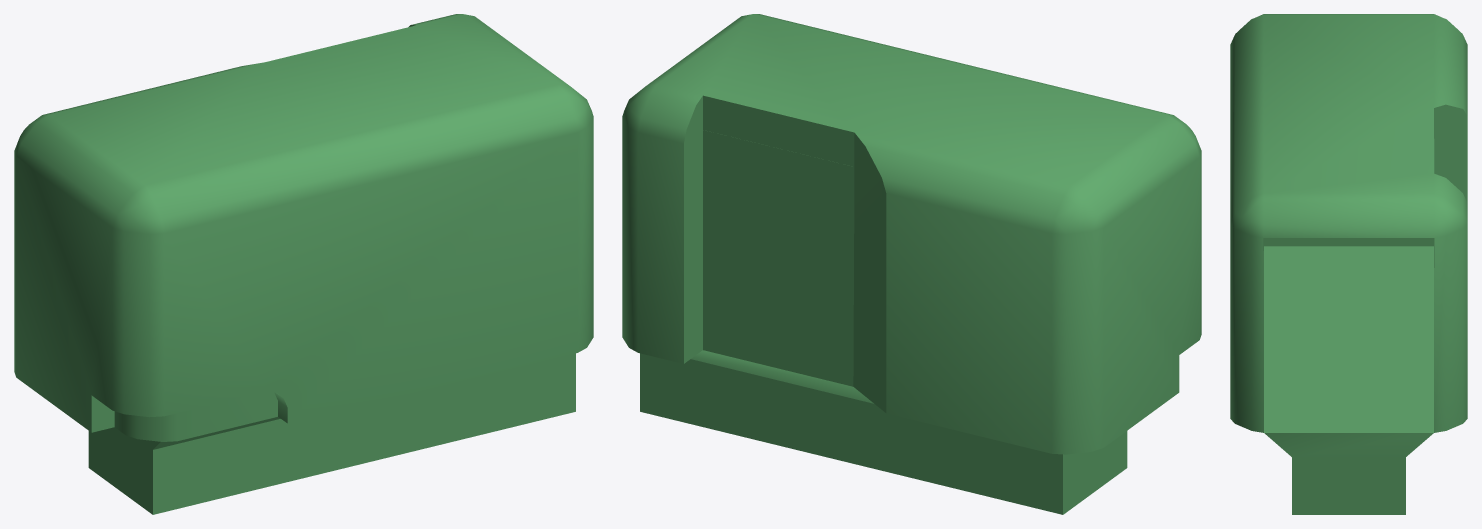
Rendered from Ammo Dispenser Body.obj.
The picture shows the model from 3 angles, left to right: view 1: azimuth 30°, elevation 25°; view 2: azimuth 150°, elevation 25°; view 3: azimuth 270°, elevation 25°; orthographic projection. The views are drawn at different scales.
Visible parts, largest first — view 1: Ammo Dispenser Body; view 2: Ammo Dispenser Body; view 3: Ammo Dispenser Body.
Part boxes in pixels (box(x1,y1,x2,y2)): Ammo Dispenser Body: box(14, 14, 593, 514); Ammo Dispenser Body: box(622, 14, 1201, 514); Ammo Dispenser Body: box(1230, 14, 1467, 514).
Size of the model in its own units: 2.26 by 1.56 by 1.09.
